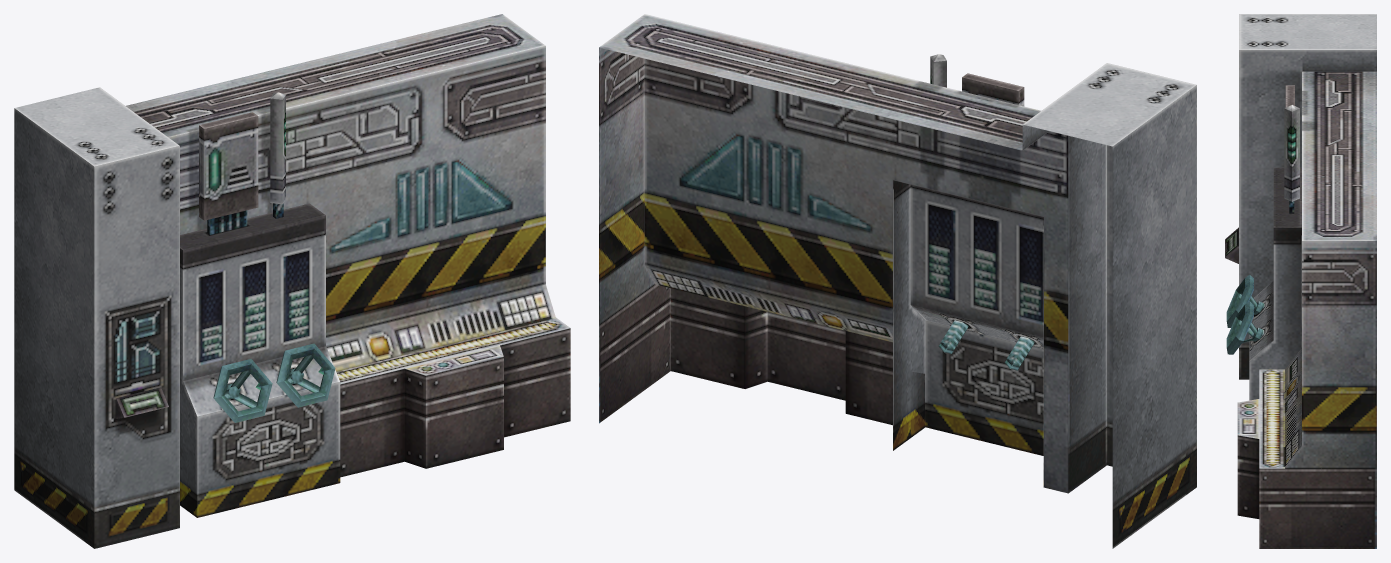
The model's file is werner-monitor.glb.
The picture shows the model from 3 angles, left to right: view 1: azimuth 30°, elevation 25°; view 2: azimuth 150°, elevation 25°; view 3: azimuth 270°, elevation 25°; orthographic projection. The views are drawn at different scales.
Parts seen in each view (by area): view 1: monitor_h_01; view 2: monitor_h_01; view 3: monitor_h_01.
Part boxes in pixels (x1,y1,x2,y2): monitor_h_01: [14, 14, 570, 548]; monitor_h_01: [599, 14, 1196, 548]; monitor_h_01: [1225, 14, 1376, 548].
Size of the model in its own units: 0.1 by 0.0749 by 0.0313.
Materials: 2 (2 with a texture image).
